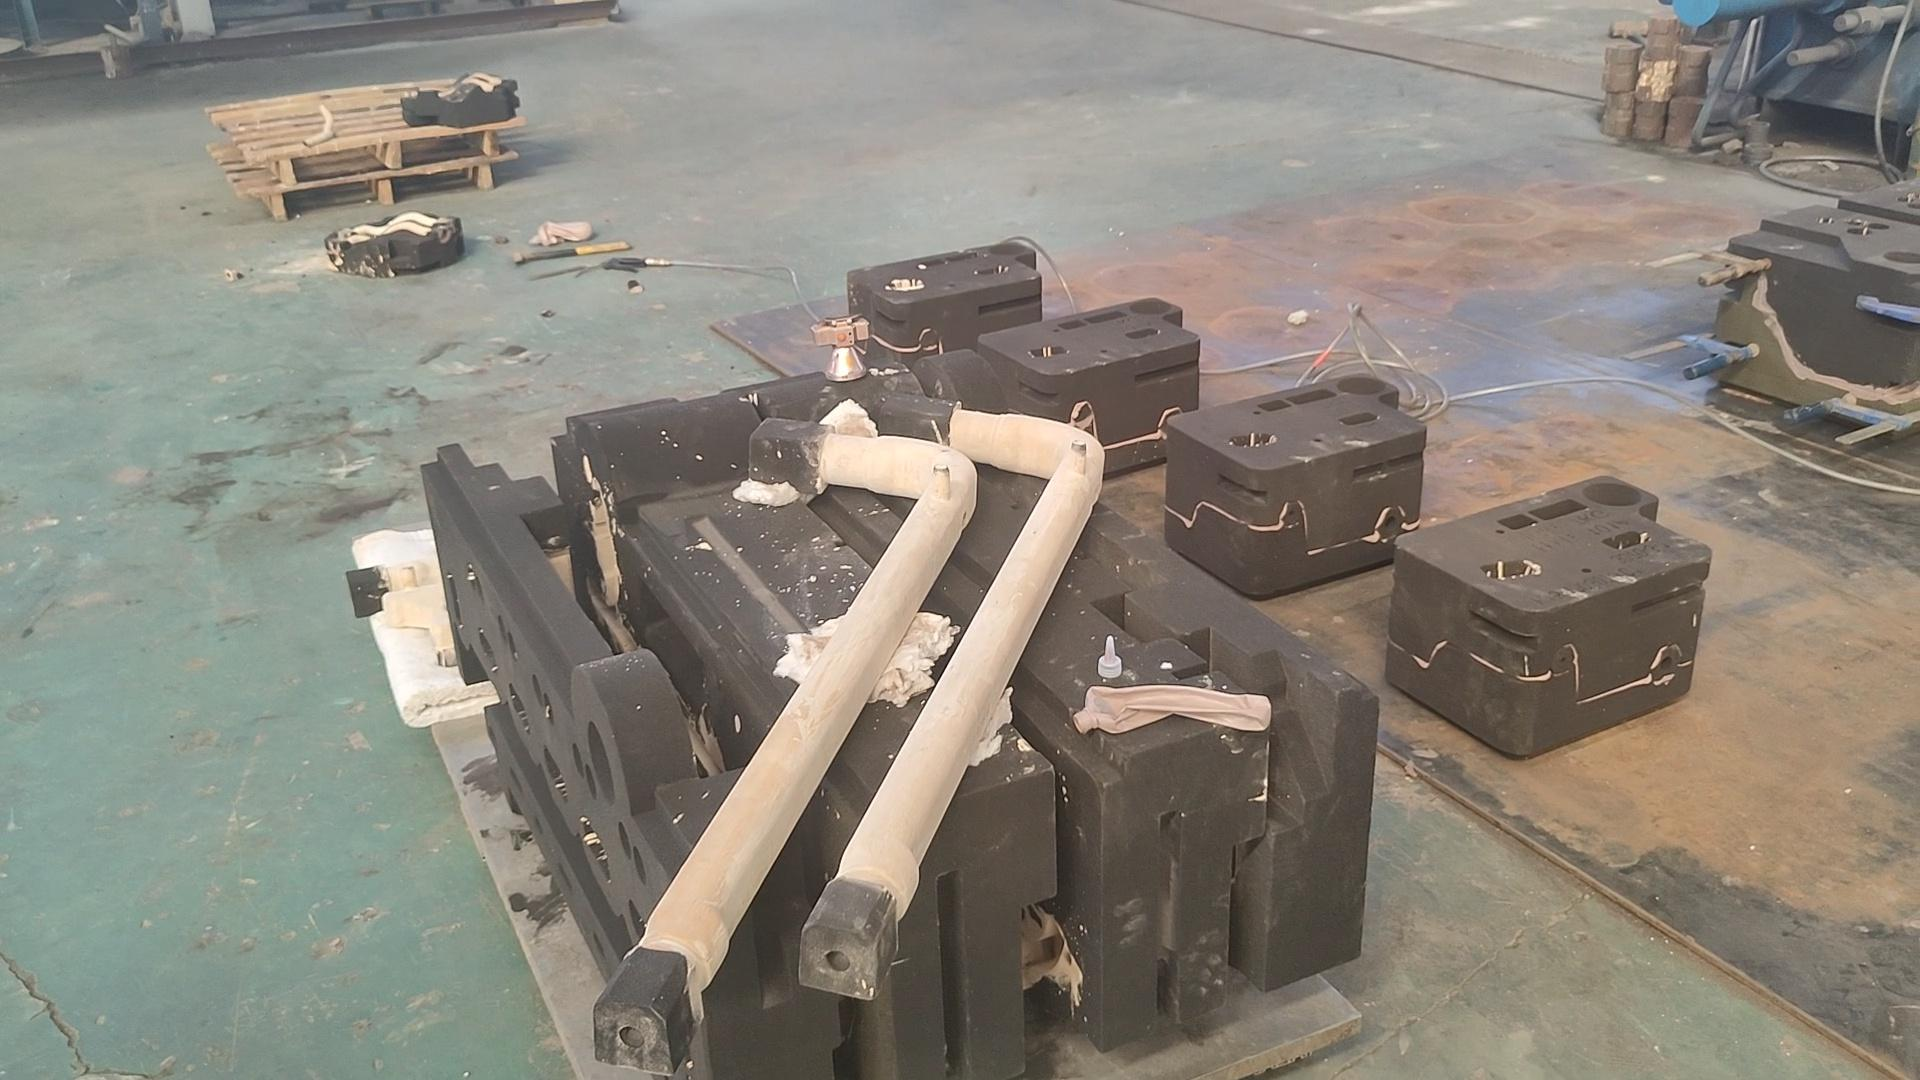pouring hole: (582, 721, 616, 808), (1582, 483, 1640, 506), (1337, 376, 1387, 396), (1129, 301, 1172, 314), (1882, 251, 1920, 264), (989, 243, 1026, 255)
